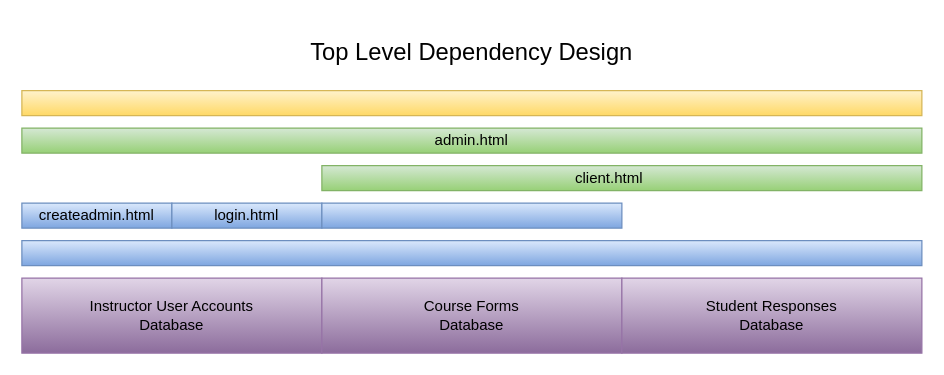
This 944x375 diagram has some shape labels left out. The shapes that lost their labels are listed below. From the top down, each one's centre as x and y in pixels, then its label:
At point (471, 102): "index.html".
At point (471, 215): "admincreate.html".
At point (471, 252): "server.py".
